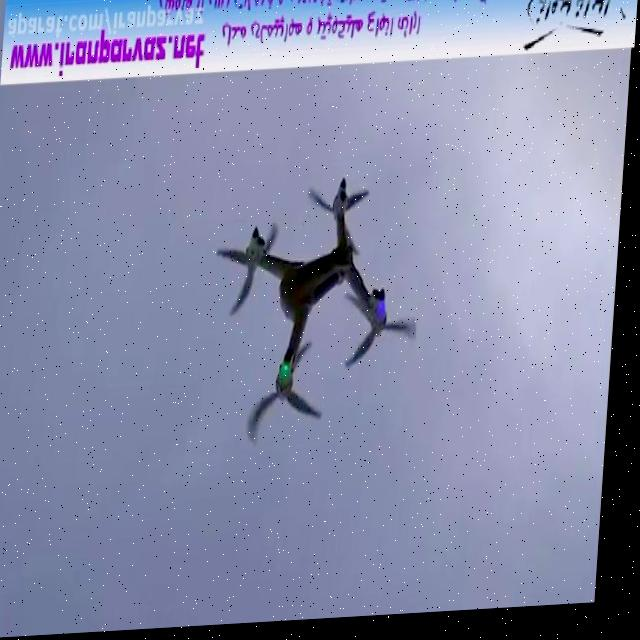drone: (205, 174, 432, 458)
